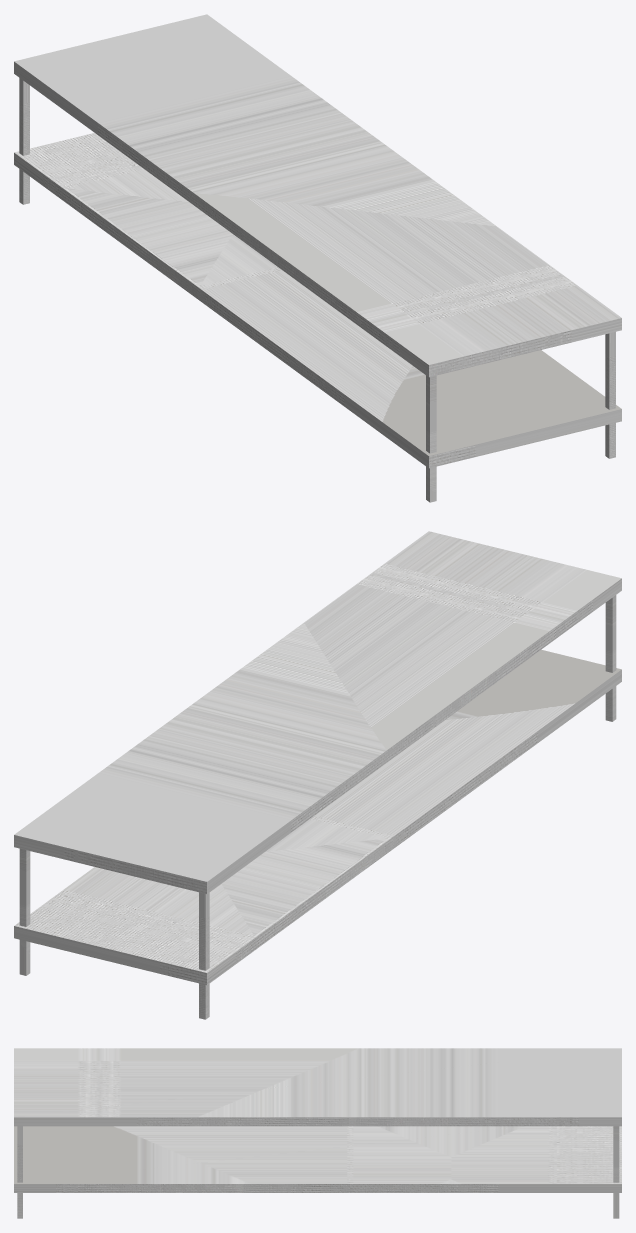
Rendered from Table.gltf.
3 renders of one model, top to bottom at view 1: azimuth 30°, elevation 25°; view 2: azimuth 150°, elevation 25°; view 3: azimuth 270°, elevation 25°, orthographic. The views are drawn at different scales.
Visible parts, largest first — view 1: table_geo; view 2: table_geo; view 3: table_geo.
Part boxes in pixels (bbox=[...]): table_geo: bbox=[14, 14, 621, 502]; table_geo: bbox=[14, 531, 621, 1019]; table_geo: bbox=[14, 1048, 621, 1218].
Bounding box in the file's own units: 119 × 82.16 × 441.
